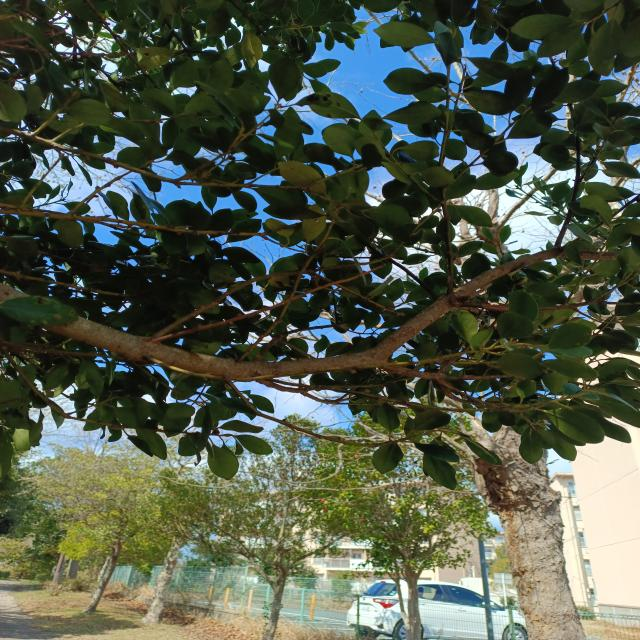Branch: (0, 244, 621, 383)
Twig: (152, 254, 390, 342), (161, 262, 393, 340), (383, 361, 510, 380)
